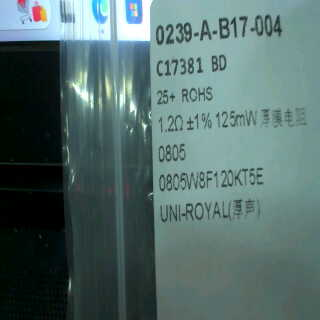1.2R: (155, 113, 186, 168)
